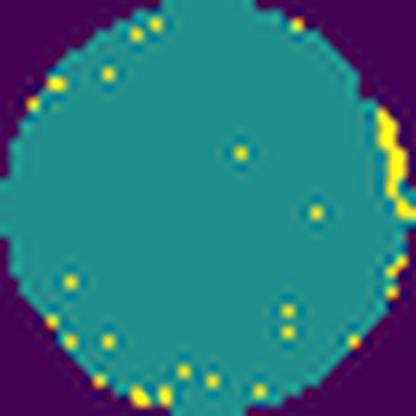Edge-Loc: (373, 102, 415, 228)
